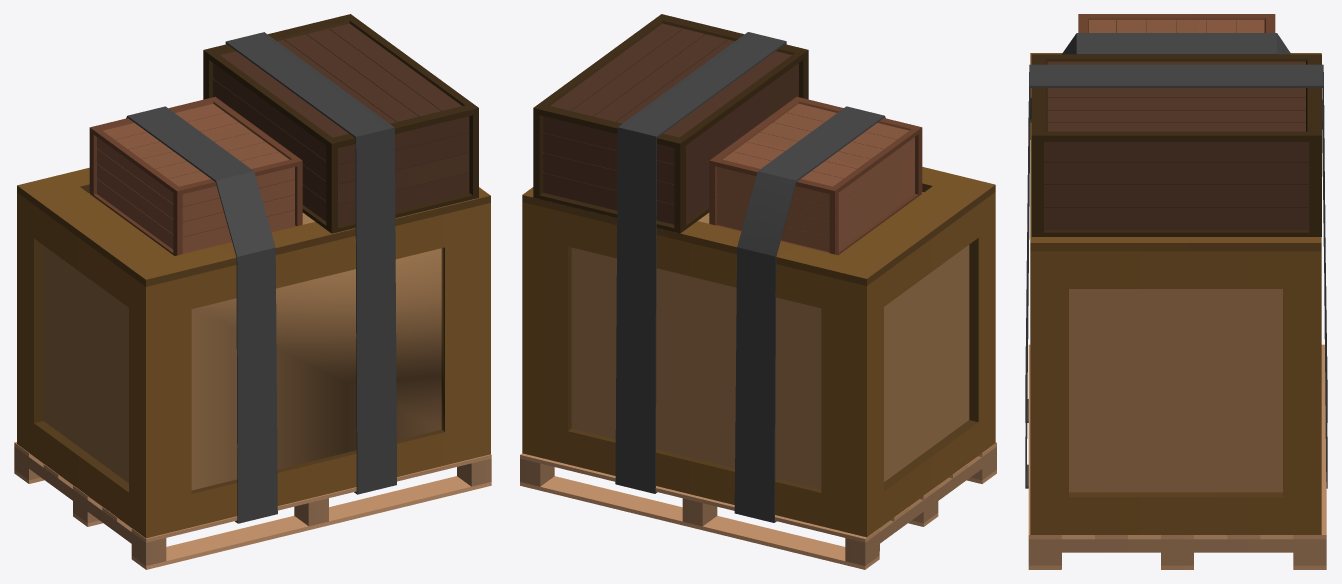
The model's file is Pallet Of Boxes #4.fbx.
The picture shows the model from 3 angles, left to right: view 1: azimuth 30°, elevation 25°; view 2: azimuth 150°, elevation 25°; view 3: azimuth 270°, elevation 25°; orthographic projection. The views are drawn at different scales.
Visible parts, largest first — view 1: Pallet Of Boxes #4; view 2: Pallet Of Boxes #4; view 3: Pallet Of Boxes #4.
Boxes of the visible parts, bbox=[...] form: Pallet Of Boxes #4: bbox=[14, 14, 491, 569]; Pallet Of Boxes #4: bbox=[520, 14, 996, 569]; Pallet Of Boxes #4: bbox=[1025, 14, 1327, 569].
Bounding box in the file's own units: 592 × 377 × 561.
Materials: 1 (1 with a texture image).
